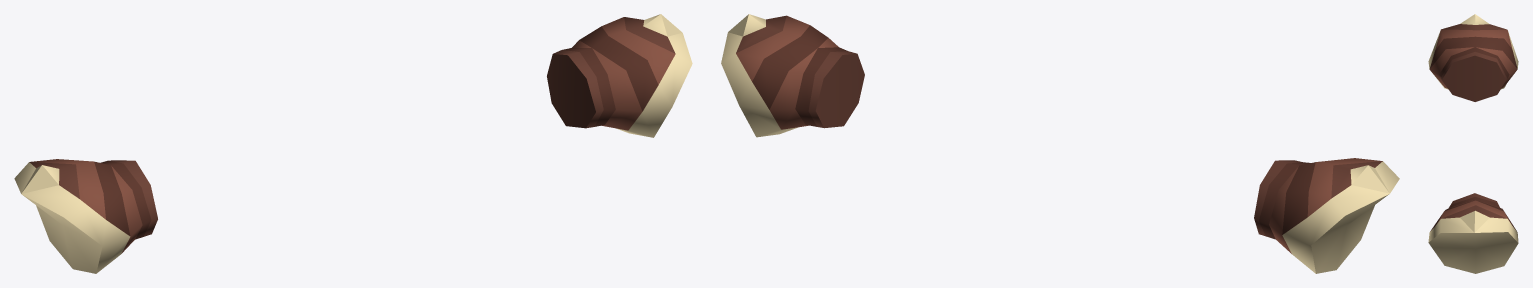
File: Glove_35.fbx
3 views of the same model, side by side, from view 1: azimuth 30°, elevation 25°; view 2: azimuth 150°, elevation 25°; view 3: azimuth 270°, elevation 25° (orthographic). The views are drawn at different scales.
Visible parts, largest first — view 1: Glove_35; view 2: Glove_35; view 3: Glove_35.
Part boxes in pixels (x1,y1,x2,y2): Glove_35: (14,14,692,273); Glove_35: (721,14,1399,273); Glove_35: (1428,14,1518,273).
Size of the model in its own units: 123 by 19.89 by 22.22.
